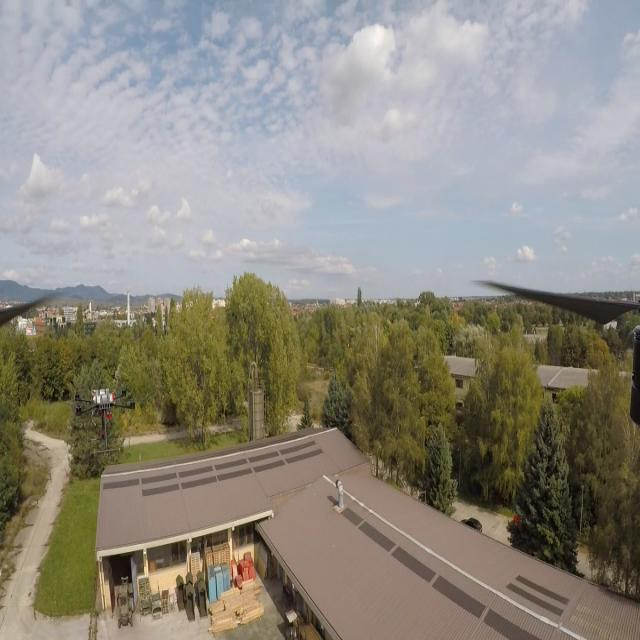UAV: (69, 384, 139, 458)
